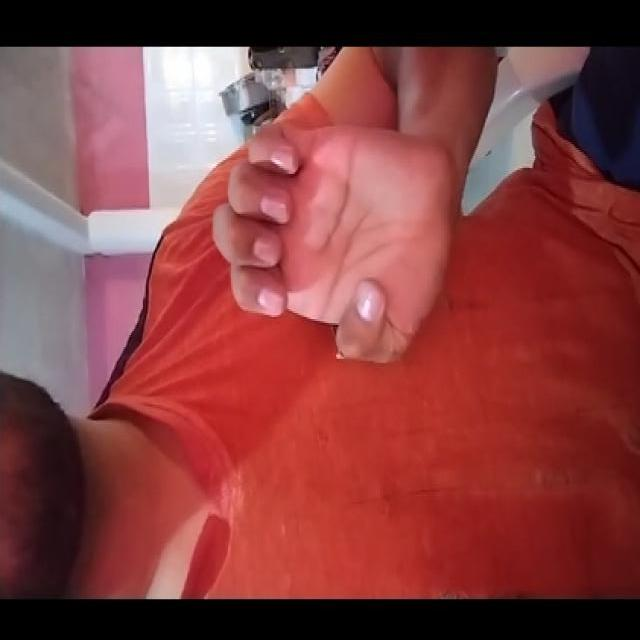E: (209, 98, 475, 394)
